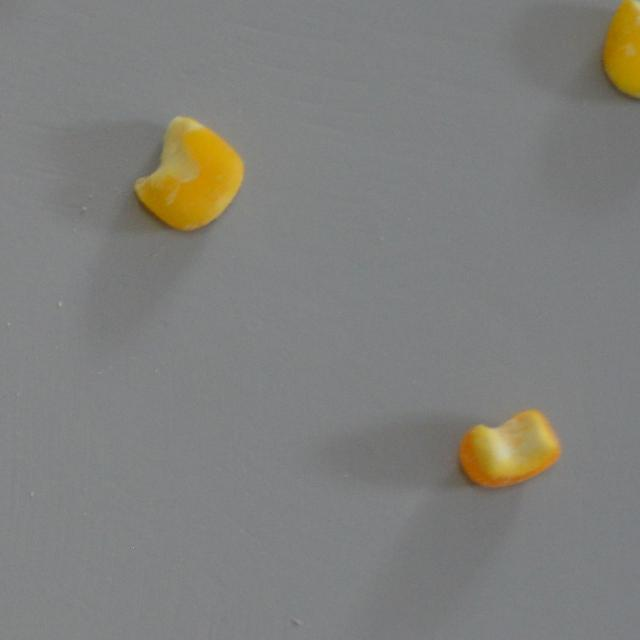pelicula: (126, 118, 245, 235), (461, 404, 554, 497)
